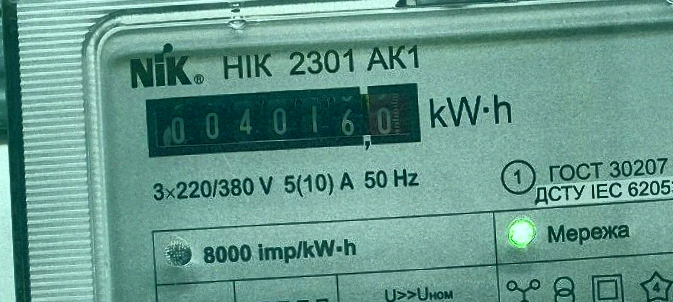0: (268, 103, 290, 138), (166, 112, 188, 146), (372, 103, 393, 136), (201, 108, 221, 142)
1: (306, 100, 322, 135)
4: (235, 103, 254, 138)
6: (336, 104, 356, 136)
screen: (137, 76, 429, 165)
